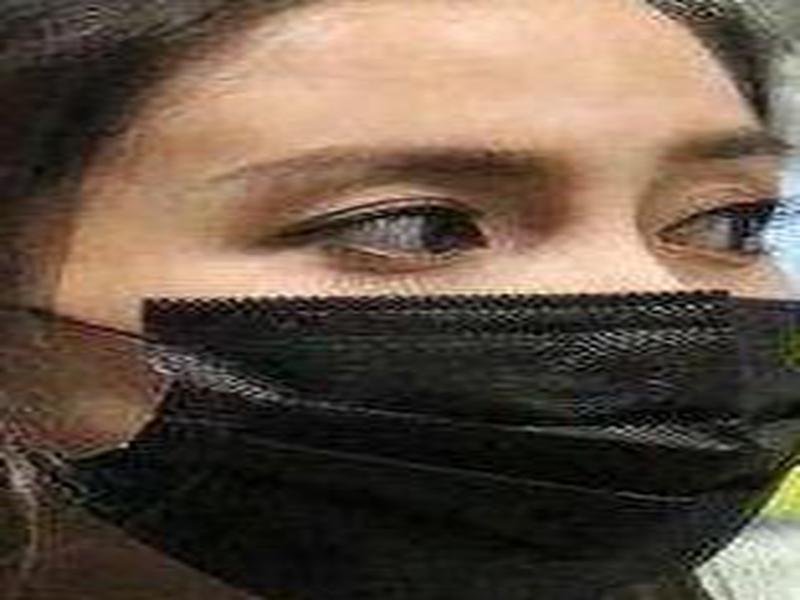with_mask: (1, 1, 799, 599)
